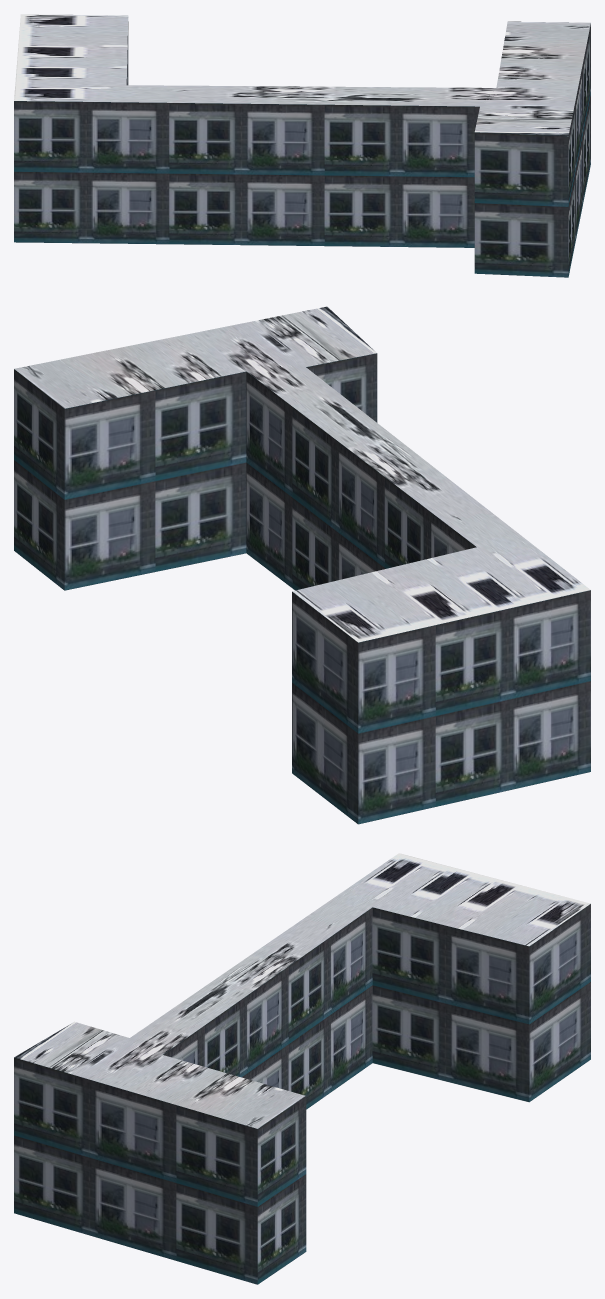
File: ResTex__3280.fbx
3 renders of one model, top to bottom at view 1: azimuth 30°, elevation 25°; view 2: azimuth 150°, elevation 25°; view 3: azimuth 270°, elevation 25°, orthographic. The views are drawn at different scales.
Parts seen in each view (by area): view 1: CityEngineMaterial_11_m, CityEngineMaterial_8_m; view 2: CityEngineMaterial_11_m, CityEngineMaterial_8_m; view 3: CityEngineMaterial_11_m, CityEngineMaterial_8_m.
Part boxes in pixels (x1,y1,x2,y2): CityEngineMaterial_11_m: [14, 21, 590, 277]; CityEngineMaterial_8_m: [14, 14, 590, 136]; CityEngineMaterial_11_m: [14, 353, 590, 824]; CityEngineMaterial_8_m: [14, 306, 590, 642]; CityEngineMaterial_11_m: [14, 904, 590, 1284]; CityEngineMaterial_8_m: [14, 853, 590, 1128].
Size of the model in its own units: 22.77 by 6 by 20.13.
2 materials, 2 textured.
